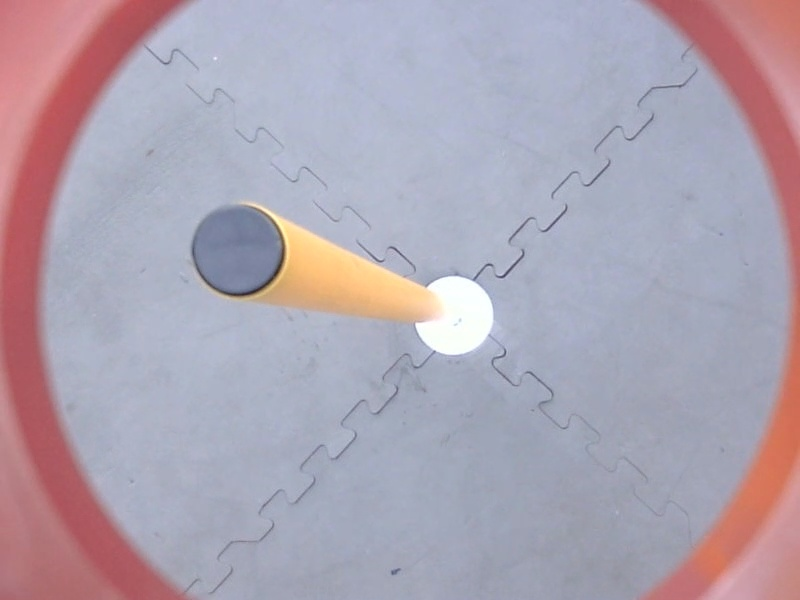tip: (184, 198, 296, 306)
